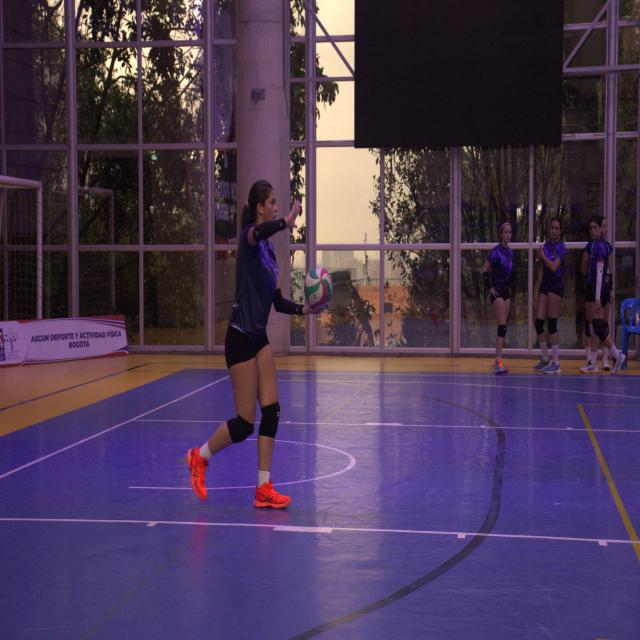volleyball: (304, 267, 332, 308)
